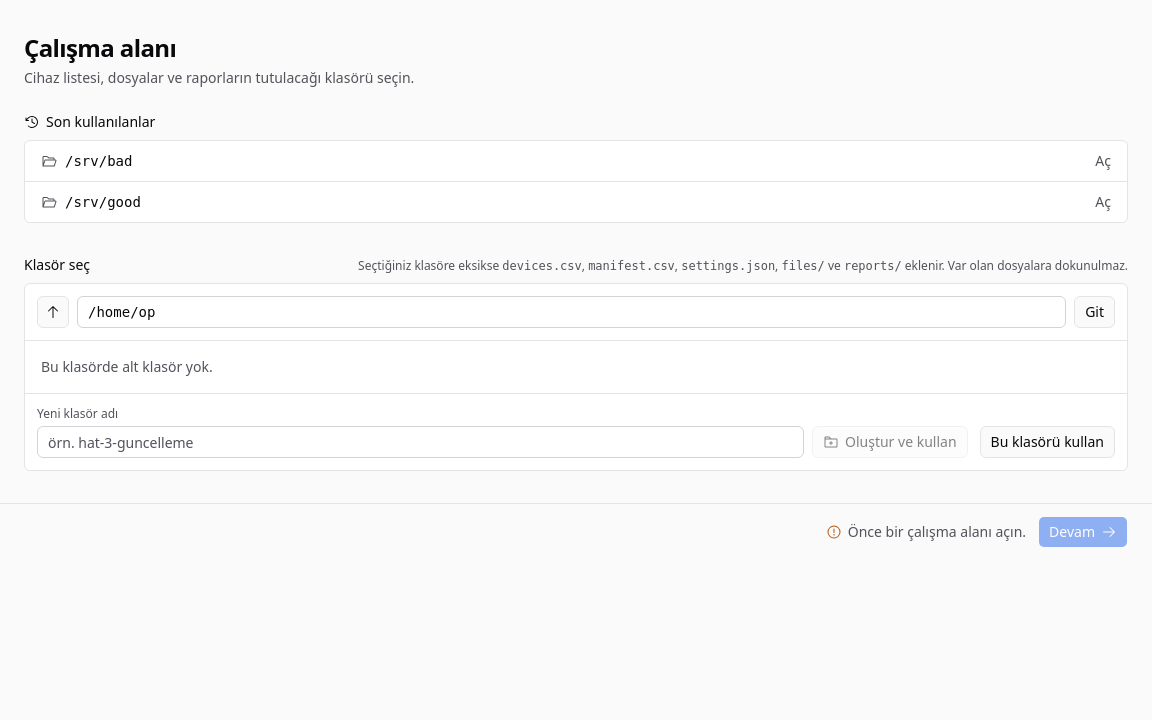
WorkspaceStep › clears the error Alert after a failed open is followed by a successful one
The width and height of the screenshot is (1152, 720).
Click the button "/srv/bad Aç" at point(99, 161), box [25,141,1127,181]
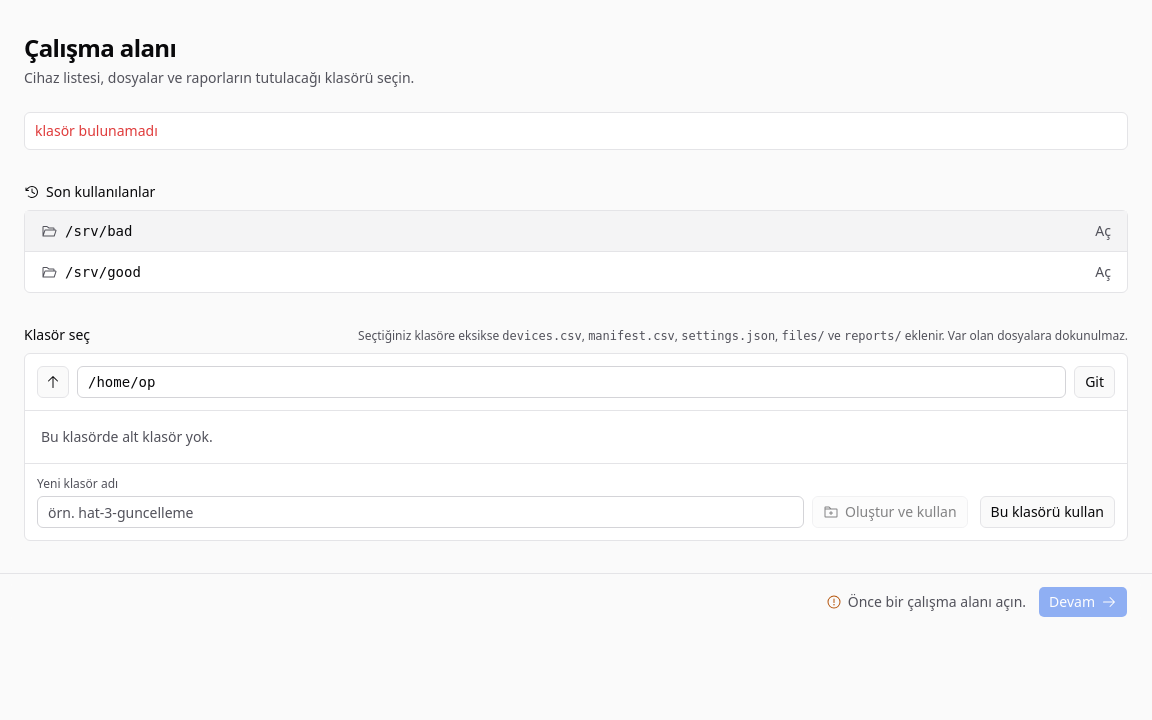
Result: the text "klasör bulunamadı" is shown at [35,121,158,140]
Click the button "/srv/good Aç" at point(103, 272), box [25,252,1127,292]
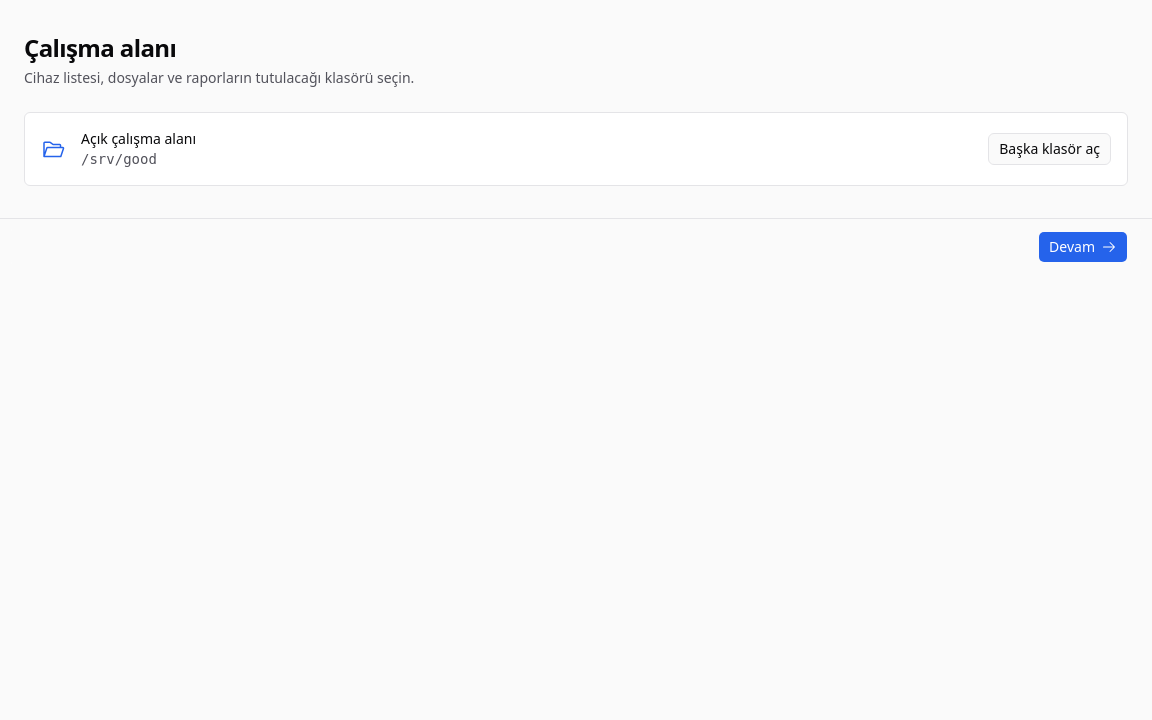
Result: the heading "Açık çalışma alanı" is shown at [81,129,196,148]
Result: the text "klasör bulunamadı" is gone
